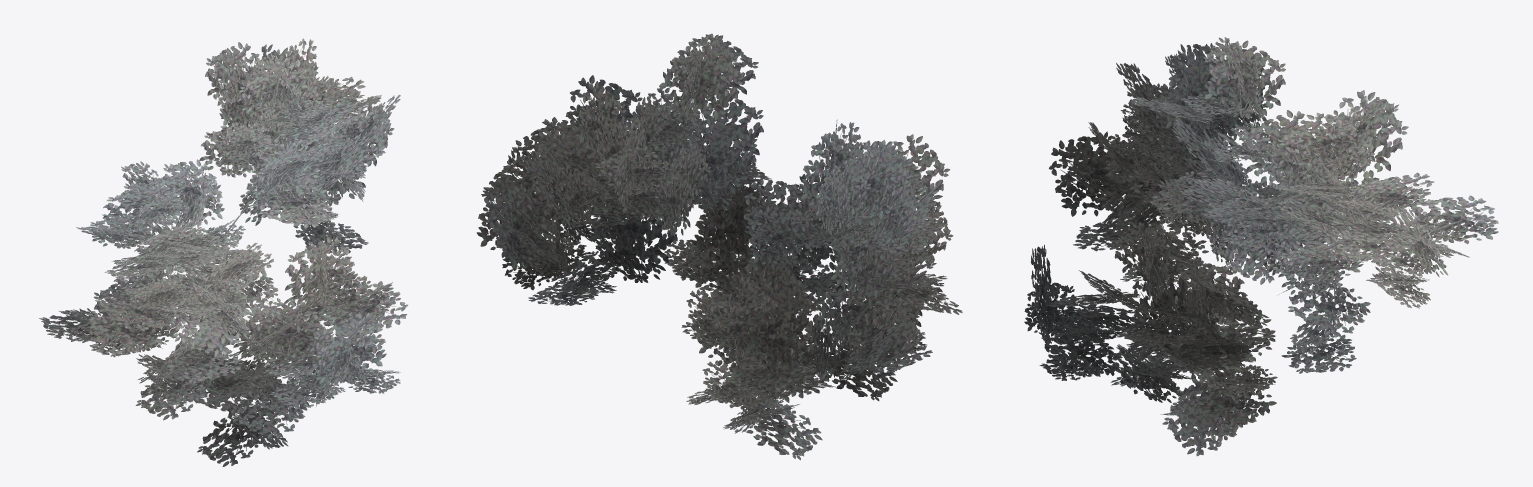
The model's file is acacia_l0.gltf.
The picture shows the model from 3 angles, left to right: view 1: azimuth 30°, elevation 25°; view 2: azimuth 150°, elevation 25°; view 3: azimuth 270°, elevation 25°; orthographic projection. The views are drawn at different scales.
Parts seen in each view (by area): view 1: acacia_l0; view 2: acacia_l0; view 3: acacia_l0.
Boxes of the visible parts, x1,y1,x2,y2 form: acacia_l0: [39, 38, 407, 466]; acacia_l0: [476, 33, 962, 460]; acacia_l0: [1024, 37, 1498, 456].
Bounding box in the file's own units: 8.8 × 8.61 × 8.73.
Materials: 1 (1 with a texture image).
